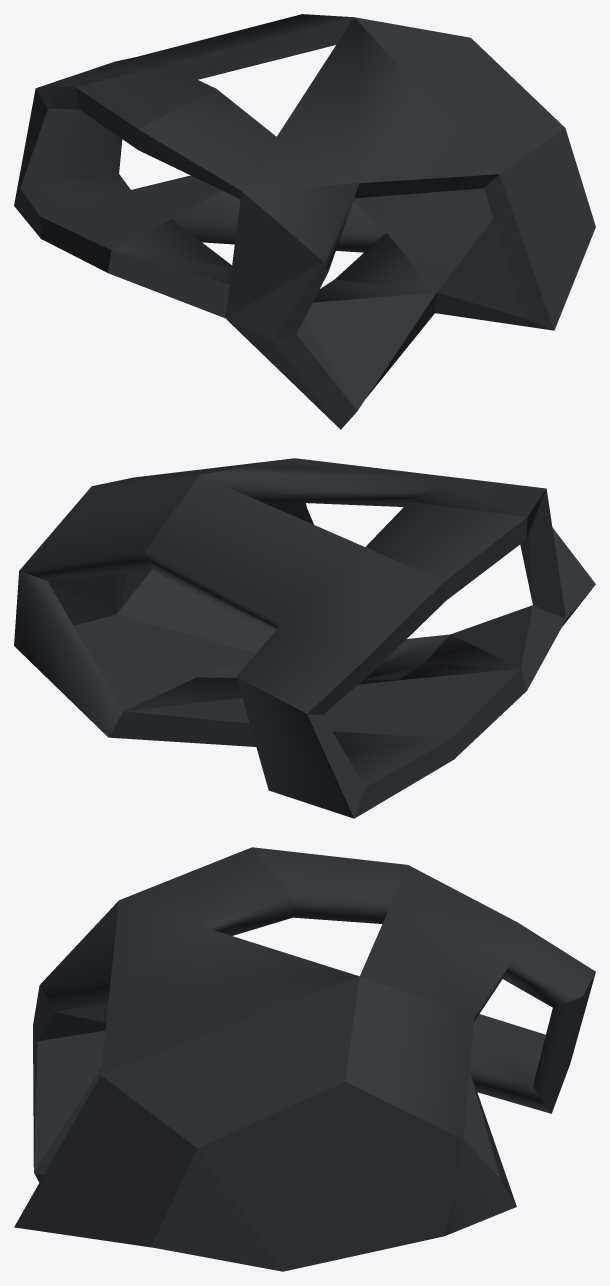
Rendered from Chr_HandRight_Female_10_Drop.fbx.
The picture shows the model from 3 angles, top to bottom: view 1: azimuth 30°, elevation 25°; view 2: azimuth 150°, elevation 25°; view 3: azimuth 270°, elevation 25°; orthographic projection. The views are drawn at different scales.
Parts seen in each view (by area): view 1: Chr_HandRight_Female_10_Static; view 2: Chr_HandRight_Female_10_Static; view 3: Chr_HandRight_Female_10_Static.
Part boxes in pixels (x1,y1,x2,y2): Chr_HandRight_Female_10_Static: (14, 14, 595, 429); Chr_HandRight_Female_10_Static: (14, 458, 595, 818); Chr_HandRight_Female_10_Static: (14, 847, 595, 1271).
Size of the model in its own units: 11.79 by 7.05 by 12.72.
